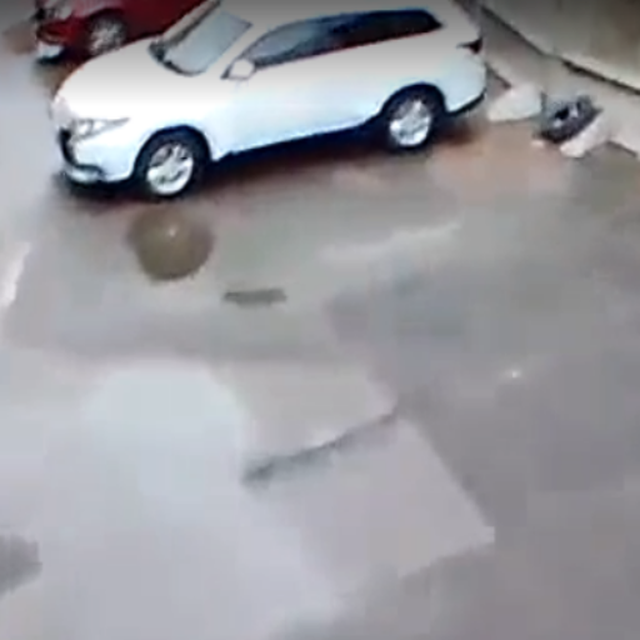car: (52, 1, 487, 199)
